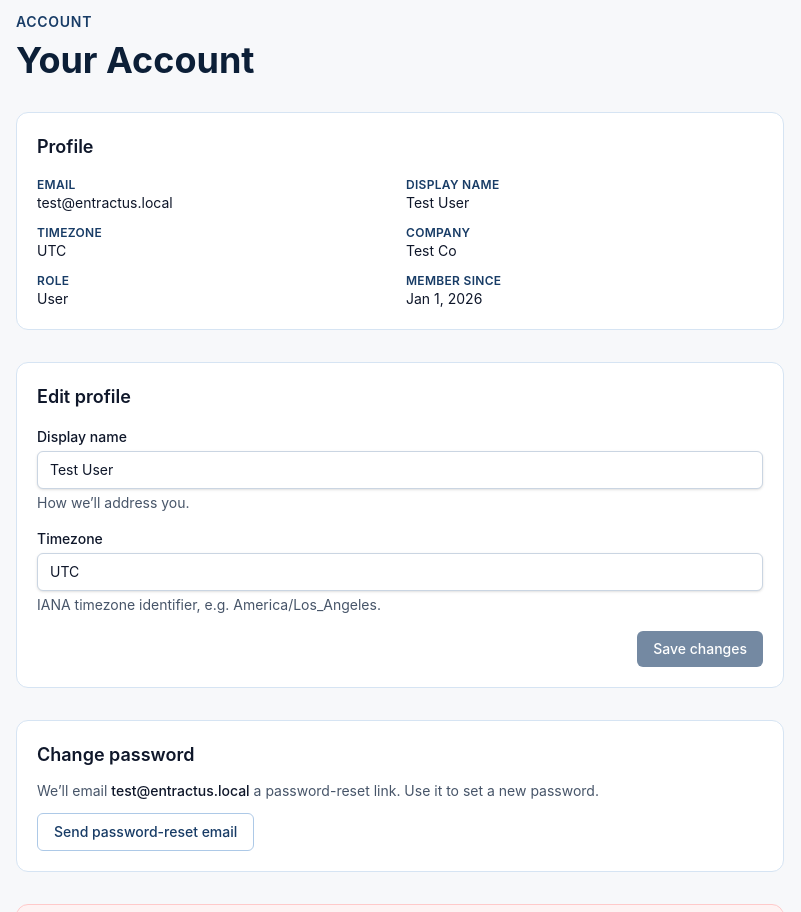
Scenario: <AccountPage /> — profile edit › surfaces a PATCH error in a banner
In the field labelled "Display name": (400, 470) [37,451,763,489], type "!"
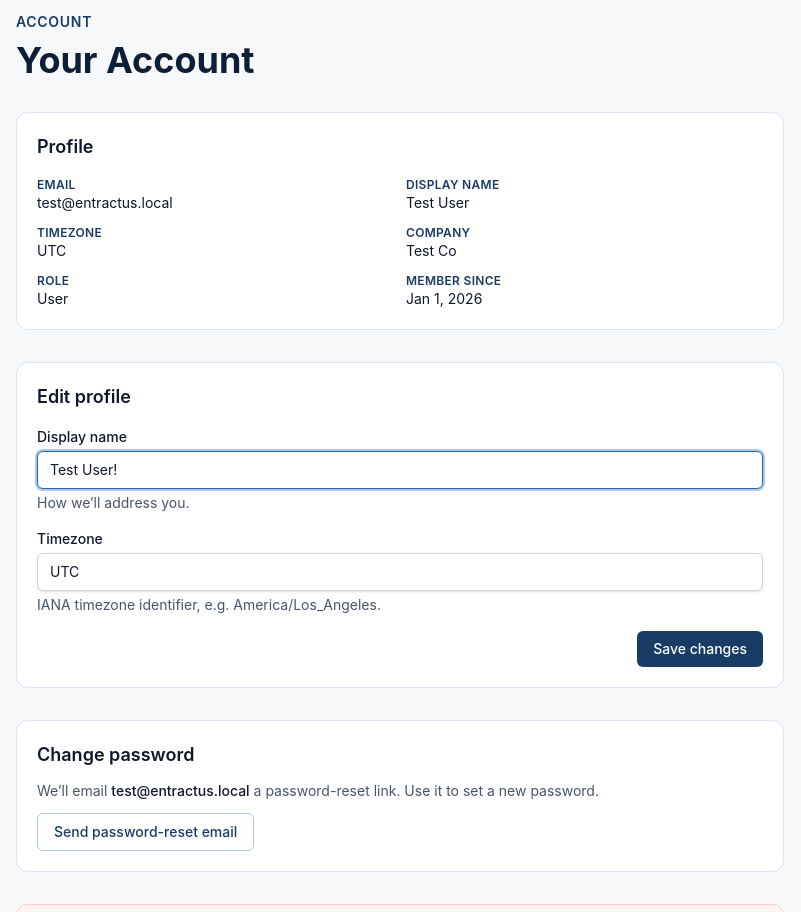
Click the button "Save changes": (700, 649) [637,631,763,667]
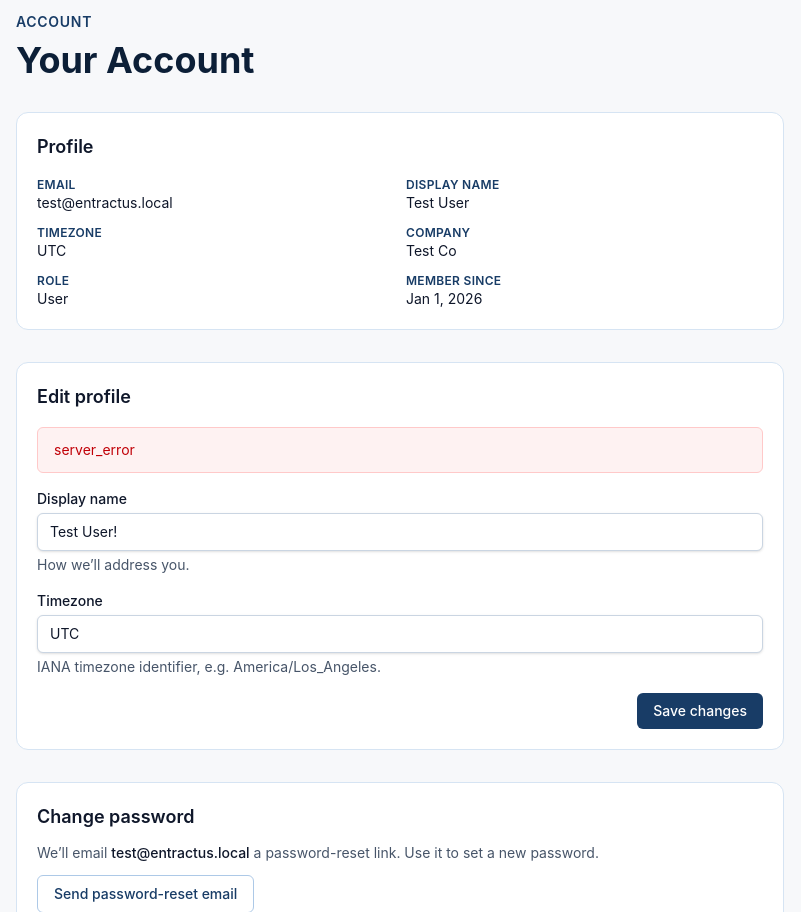
Check: the text "server_error" is shown, box [37,427,763,473]
